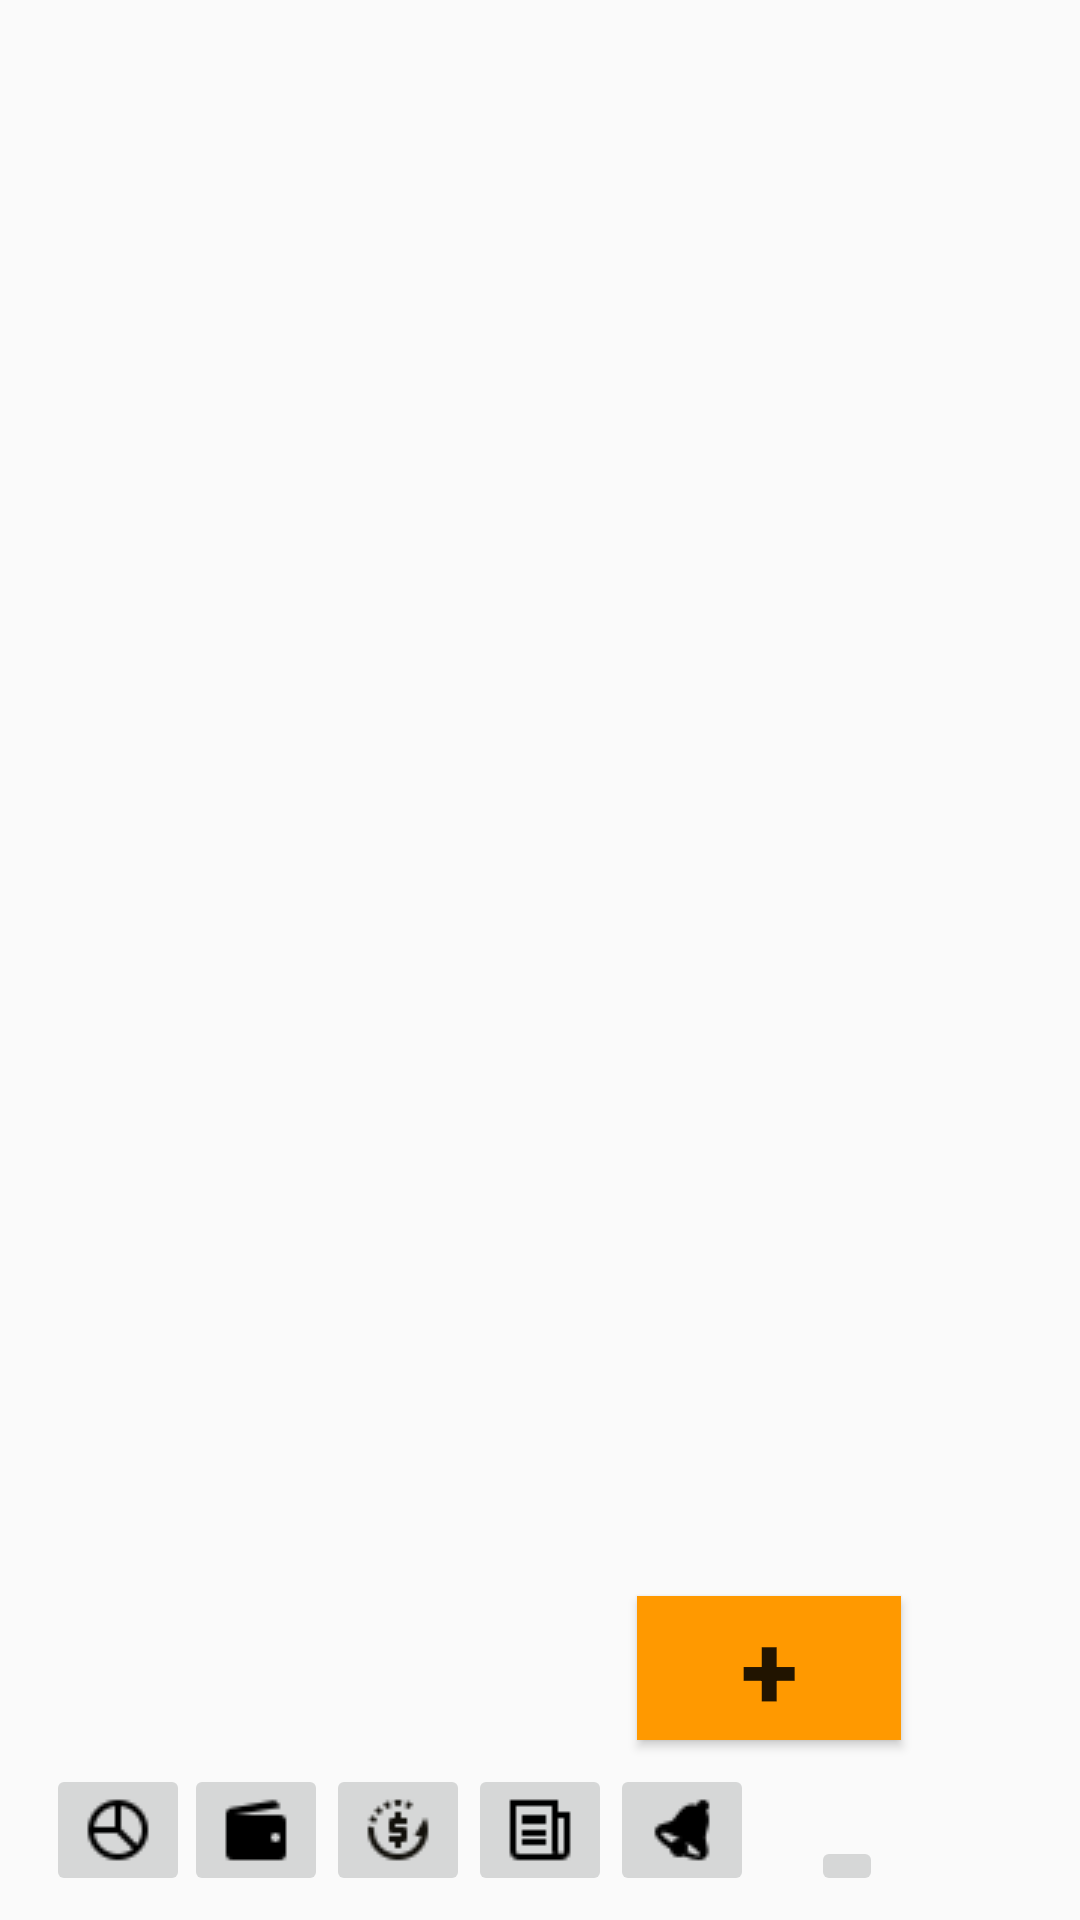

Locate icon controls on the screen. Image size 1080 x 1920, boxes as (x1, y1, x2, y2).
alerts: (622, 1782, 742, 1878)
news: (480, 1782, 600, 1878)
portfolio: (58, 1782, 178, 1878)
transaction: (338, 1782, 458, 1878)
wallet: (196, 1782, 316, 1878)
